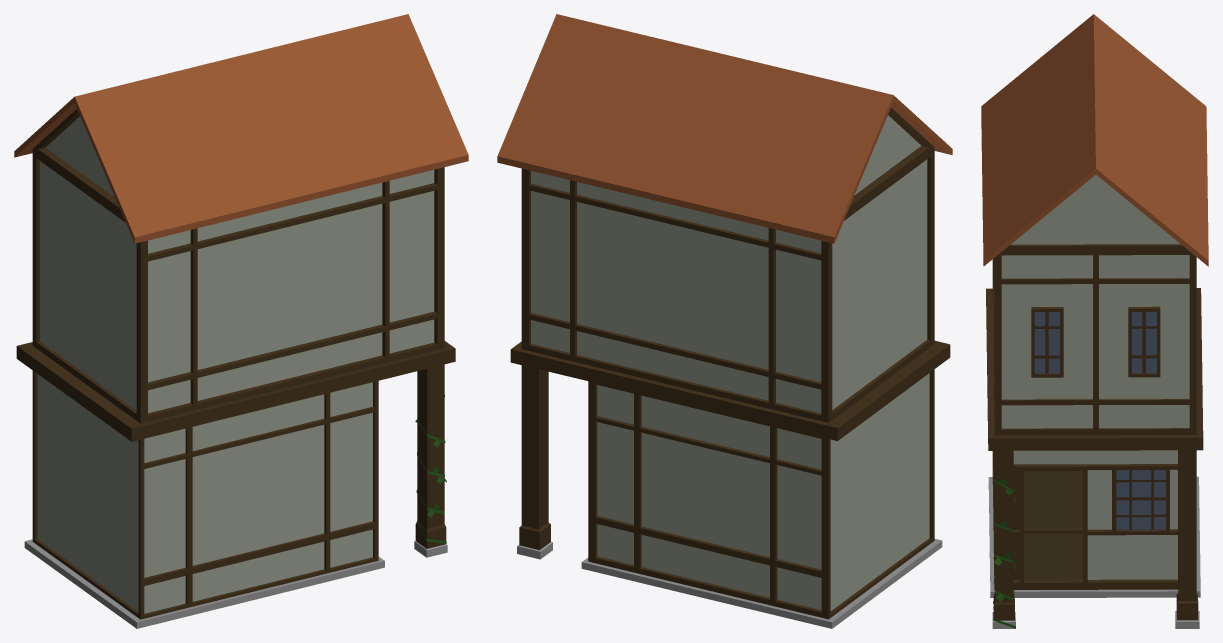
The model's file is medieval_building_005.glb.
The picture shows the model from 3 angles, left to right: view 1: azimuth 30°, elevation 25°; view 2: azimuth 150°, elevation 25°; view 3: azimuth 270°, elevation 25°; orthographic projection. The views are drawn at different scales.
Visible parts, largest first — view 1: House8; view 2: House8; view 3: House8.
Boxes of the visible parts, box(x1,y1,x2,y2) form: House8: box(14, 14, 468, 628); House8: box(497, 14, 952, 628); House8: box(981, 14, 1208, 628).
Size of the model in its own units: 559 by 784 by 346.
Materials: 1 (1 with a texture image).
